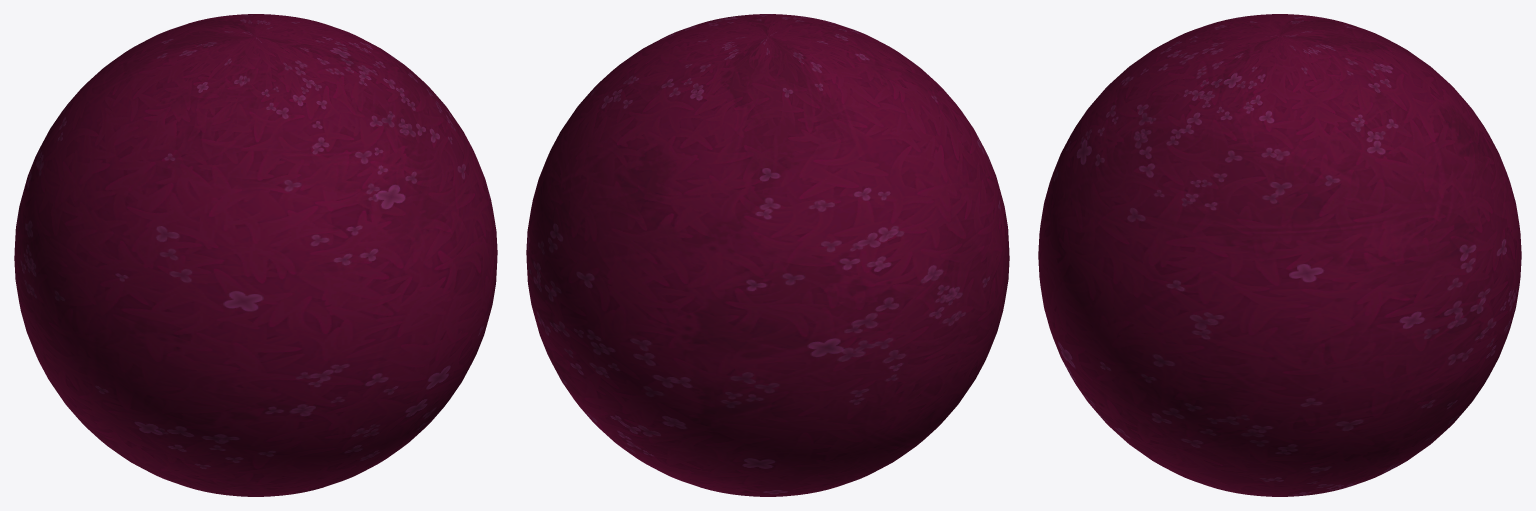
File: T_GrassTerrain_01_01_C1_Mat.glb
The picture shows the model from 3 angles, left to right: view 1: azimuth 30°, elevation 25°; view 2: azimuth 150°, elevation 25°; view 3: azimuth 270°, elevation 25°; orthographic projection.
Parts seen in each view (by area): view 1: EditorSphere; view 2: EditorSphere; view 3: EditorSphere.
Part boxes in pixels (x1,y1,x2,y2): EditorSphere: (14,14,497,496); EditorSphere: (526,14,1009,496); EditorSphere: (1038,14,1521,496).
Size of the model in its own units: 3.2 by 3.2 by 3.2.
Materials: 1 (1 with a texture image).
